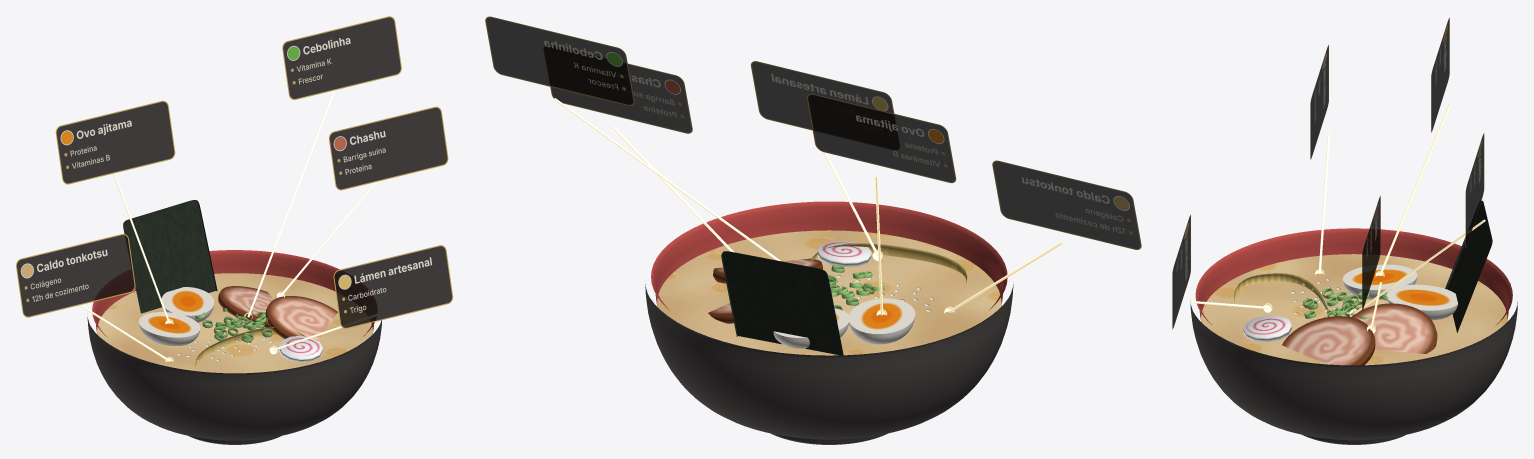
The model's file is lamen.glb.
3 renders of one model, left to right at view 1: azimuth 30°, elevation 25°; view 2: azimuth 150°, elevation 25°; view 3: azimuth 270°, elevation 25°, orthographic. The views are drawn at different scales.
Visible parts, largest first — view 1: dish; view 2: dish; view 3: dish.
Part boxes in pixels (x1=…): dish: x1=16, y1=16, x2=452, y2=444; dish: x1=485, y1=16, x2=1141, y2=444; dish: x1=1172, y1=17, x2=1517, y2=444.
Size of the model in its own units: 0.335 by 0.2192 by 0.2015.
Materials: 17 (11 with a texture image).
